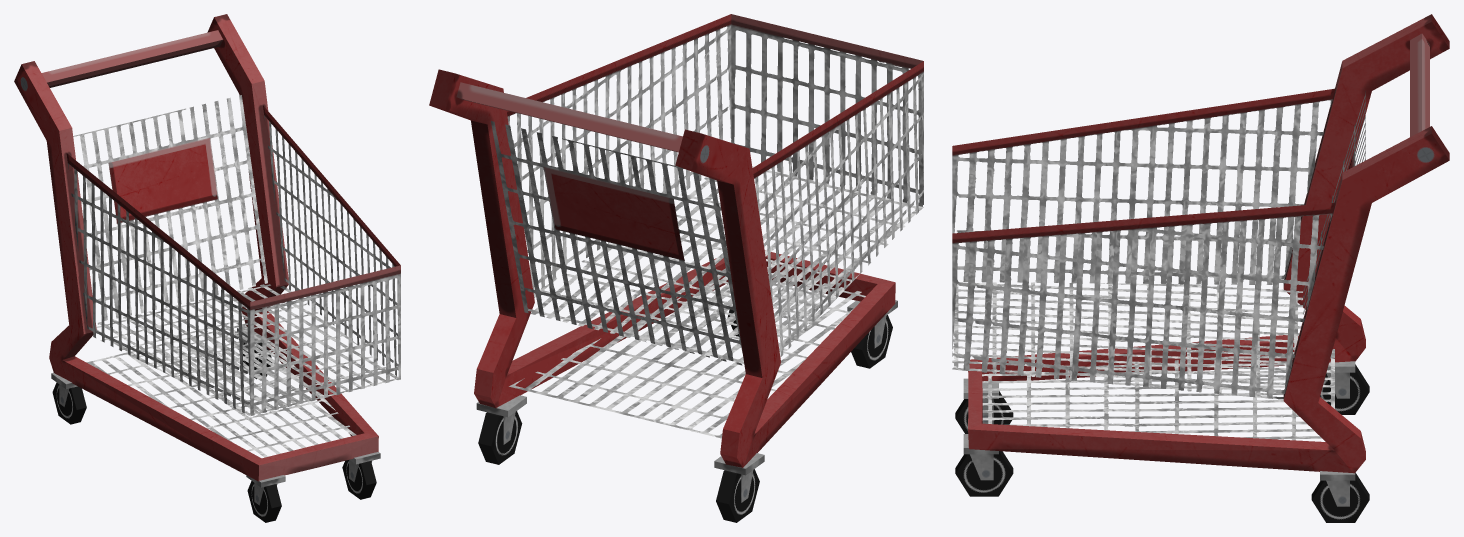
File: cha_shopping_cart_geo.fbx
3 views of the same model, side by side, from view 1: azimuth 30°, elevation 25°; view 2: azimuth 150°, elevation 25°; view 3: azimuth 270°, elevation 25° (orthographic). The views are drawn at different scales.
Parts seen in each view (by area): view 1: Cube.001; view 2: Cube.001; view 3: Cube.001.
Boxes of the visible parts, x1,y1,x2,y2 form: Cube.001: (14, 14, 400, 522); Cube.001: (429, 14, 923, 522); Cube.001: (952, 14, 1449, 522).
Size of the model in its own units: 0.6917 by 1.03 by 1.19.
Materials: 1 (1 with a texture image).
